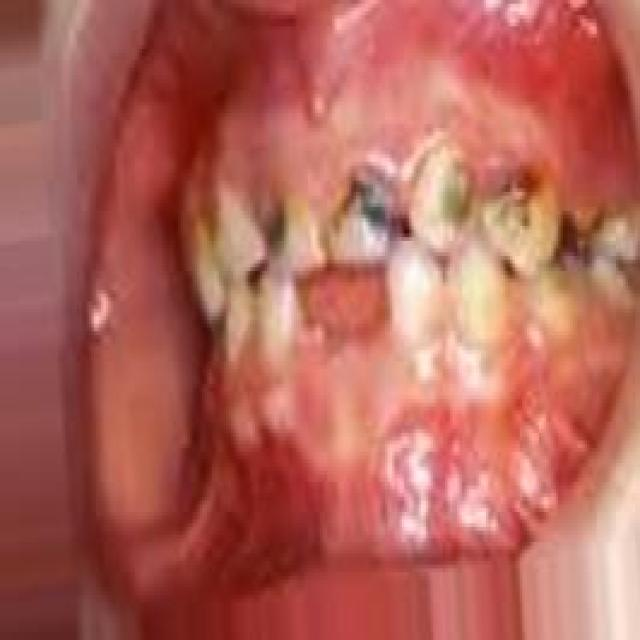caries: (478, 152, 554, 268), (404, 136, 473, 252), (328, 164, 393, 279), (267, 195, 319, 292), (560, 192, 598, 269)
